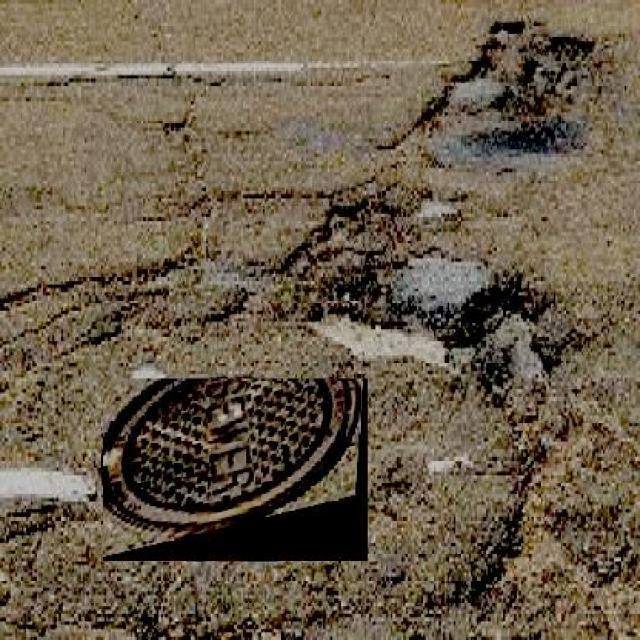Manhole: (103, 378, 368, 560)
Pothole: (237, 192, 584, 366), (308, 21, 620, 172)
